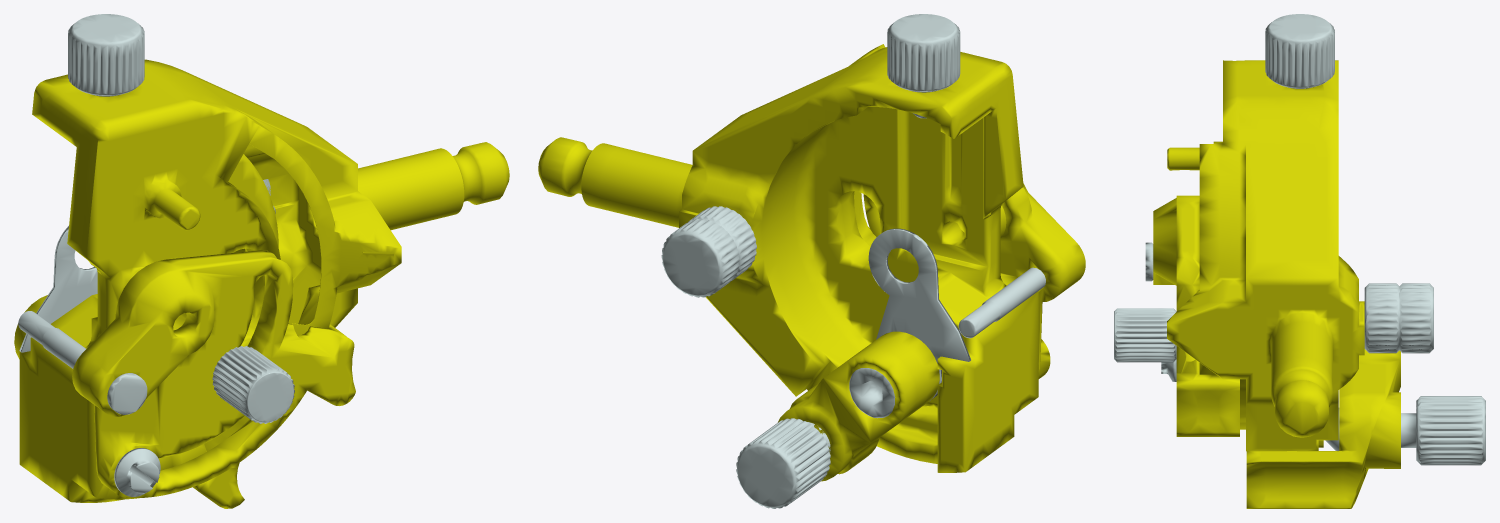
File: condylar_parts_left.obj
3 renders of one model, left to right at view 1: azimuth 30°, elevation 25°; view 2: azimuth 150°, elevation 25°; view 3: azimuth 270°, elevation 25°, orthographic. The views are drawn at different scales.
Size of the model in its own units: 65.79 by 62.58 by 48.15.
